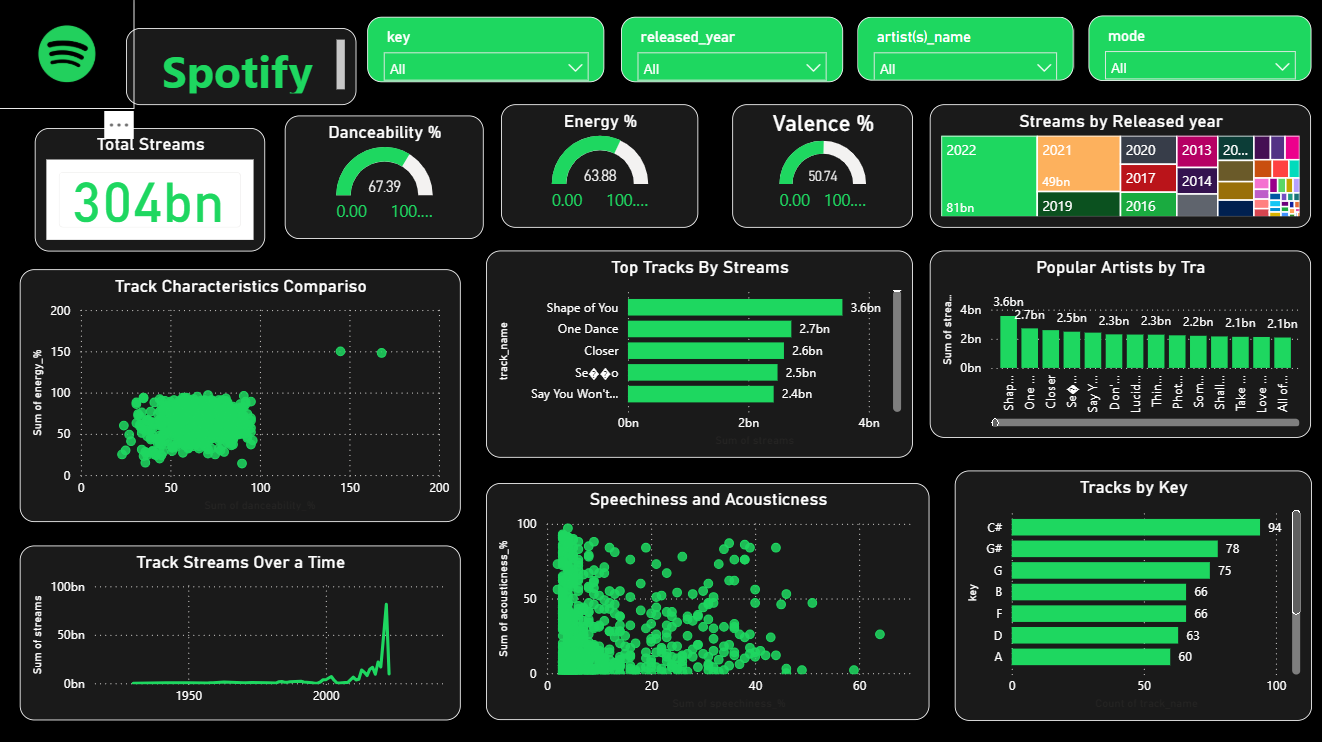

What the dashboard file says about the page in this screenshot:
{"tool":"powerbi","page":{"name":"Page 1","canvas":[1280,720],"ordinal":0},"visuals":[{"type":"slicer","fields":{"Values":["spotify-2026.key"]},"box":[358.1,17.8,229.2,63.1],"z":0},{"type":"slicer","fields":{"Values":["spotify-2026.released_year"]},"box":[603.8,17.8,214.1,63.1],"z":1000},{"type":"slicer","fields":{"Values":["spotify-2026.artist(s)_name"]},"box":[831.6,17.8,208.6,61.7],"z":2000},{"type":"slicer","fields":{"Values":["spotify-2026.mode"]},"box":[1053.9,16.5,215.4,63.1],"z":3000},{"type":"cardVisual","title":"Total Streams","fields":{"Data":["Sum(spotify-2026.streams)"]},"box":[37,124.9,222.3,119.4],"z":4000},{"type":"gauge","title":"Danceability %","fields":{"Y":["Avg(spotify-2026.danceability_%)"]},"box":[278.6,113.9,192.1,119.4],"z":5000},{"type":"gauge","title":"Energy %","fields":{"Y":["Avg(spotify-2026.energy_%)"]},"box":[487.1,102.9,190.7,119.4],"z":6000},{"type":"gauge","title":"Valence %","fields":{"Y":["Avg(spotify-2026.valence_%)"]},"box":[710.8,102.9,174.3,119.4],"z":7000},{"type":"treemap","title":" Streams by Released year","fields":{"Group":["spotify-2026.released_year"],"Values":["Sum(spotify-2026.streams)"]},"box":[901.5,102.9,367.8,119.4],"z":8000},{"type":"scatterChart","title":"Track Characteristics Compariso","fields":{"Category":["spotify-2026.streams"],"X":["Sum(spotify-2026.danceability_%)"],"Y":["Sum(spotify-2026.energy_%)"]},"box":[23.3,262.1,425.4,244.3],"z":9000},{"type":"clusteredBarChart","title":"Top Tracks By Streams","fields":{"Category":["spotify-2026.track_name"],"Y":["Sum(spotify-2026.streams)"]},"box":[473.4,244.3,411.7,200.3],"z":10000},{"type":"scatterChart","title":"Speechiness and Acousticness","fields":{"Category":["spotify-2026.streams"],"X":["Sum(spotify-2026.speechiness_%)"],"Y":["Sum(spotify-2026.acousticness_%)"]},"box":[473.4,467.9,428.1,229.2],"z":11000},{"type":"lineChart","title":"Track Streams Over a Time","fields":{"Category":["spotify-2026.released_year"],"Y":["Sum(spotify-2026.streams)"]},"box":[23.3,528.3,425.4,168.8],"z":12000},{"type":"columnChart","title":"Popular Artists by Tra","fields":{"Category":["spotify-2026.track_name"],"Y":["Sum(spotify-2026.streams)"]},"box":[901.5,244.3,367.8,181.1],"z":13000},{"type":"clusteredBarChart","title":"Tracks by Key","fields":{"Category":["spotify-2026.key"],"Y":["CountNonNull(spotify-2026.track_name)"]},"box":[924.9,455.6,344.4,241.5],"z":14000},{"type":"image","box":[2.7,0,131.7,107],"z":14002},{"type":"textbox","box":[124.9,28.8,222.3,74.1],"z":14003}]}

Visuals, with their boxes in screenshot pixels (x1, y1, x2, y2), scaled from the page's 1280x720 canvas onto the 1322x742 screenshot:
slicer - spotify-2026.key: bbox=[370, 18, 607, 83]
slicer - spotify-2026.released_year: bbox=[624, 18, 845, 83]
slicer - spotify-2026.artist(s)_name: bbox=[859, 18, 1074, 82]
slicer - spotify-2026.mode: bbox=[1088, 17, 1311, 82]
"Total Streams" cardVisual: bbox=[38, 129, 268, 252]
"Danceability %" gauge: bbox=[288, 117, 486, 240]
"Energy %" gauge: bbox=[503, 106, 700, 229]
"Valence %" gauge: bbox=[734, 106, 914, 229]
" Streams by Released year" treemap: bbox=[931, 106, 1311, 229]
"Track Characteristics Compariso" scatterChart: bbox=[24, 270, 463, 522]
"Top Tracks By Streams" clusteredBarChart: bbox=[489, 252, 914, 458]
"Speechiness and Acousticness" scatterChart: bbox=[489, 482, 931, 718]
"Track Streams Over a Time" lineChart: bbox=[24, 544, 463, 718]
"Popular Artists by Tra" columnChart: bbox=[931, 252, 1311, 438]
"Tracks by Key" clusteredBarChart: bbox=[955, 470, 1311, 718]
image: bbox=[3, 0, 139, 110]
textbox: bbox=[129, 30, 359, 106]
